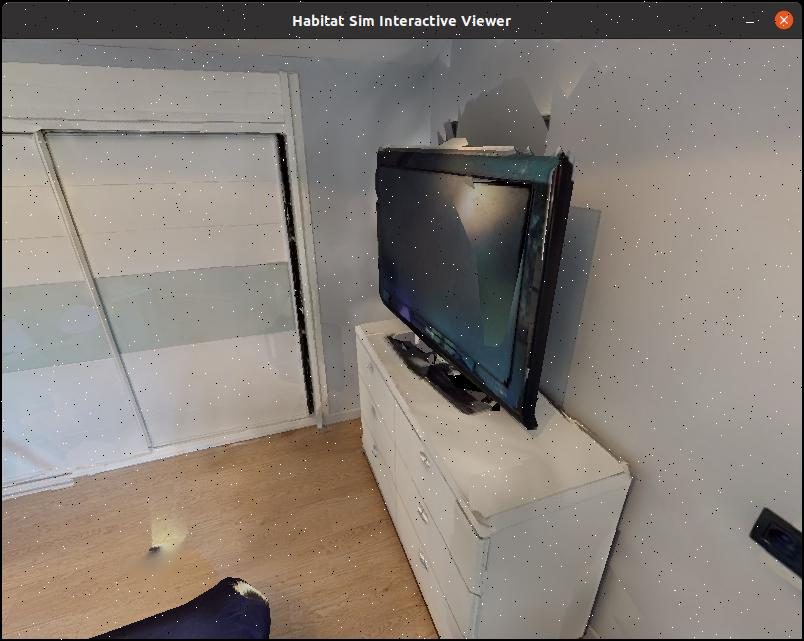table: (333, 297, 640, 641)
